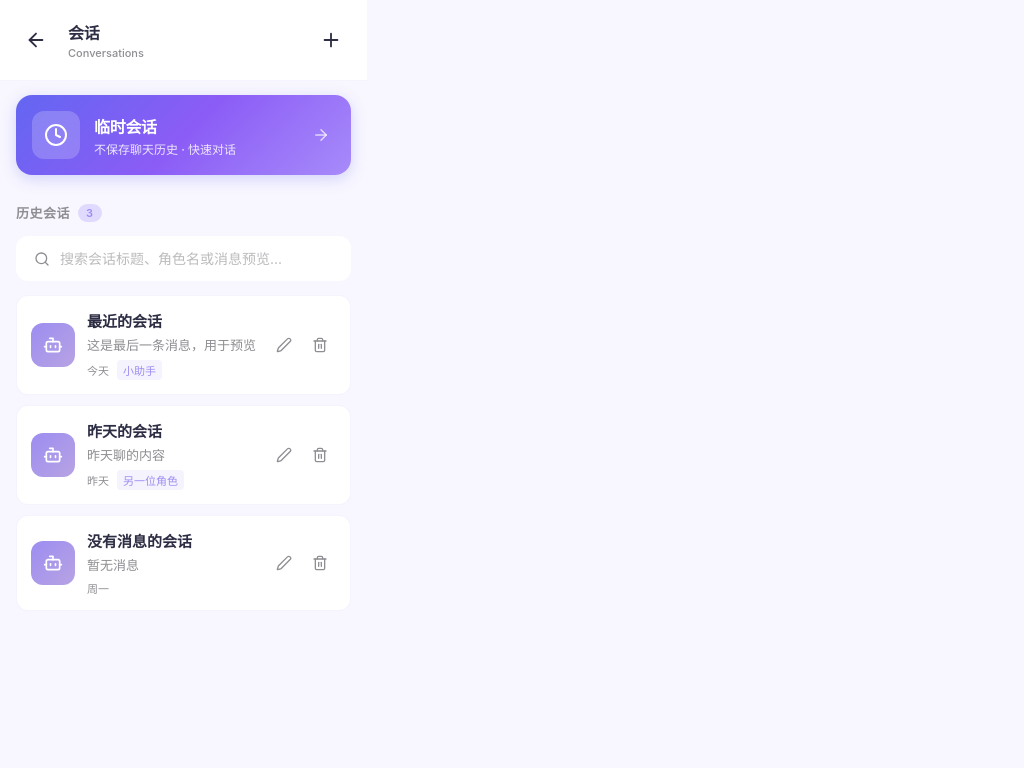
it: ConversationListPage 重命名与删除 › 重命名：弹窗预填旧名称，确定后写入并提示
This screenshot has width=1024, height=768.
Expected: the element with class "conversation-item" showing "最近的会话 这是最后一条消息，用于预览 今天 小助手" is shown, top-left (16, 295), bottom-right (351, 395)
Click the 1st button with class "edit-btn". click: [284, 345]
box: top-left (268, 329), bottom-right (300, 361)
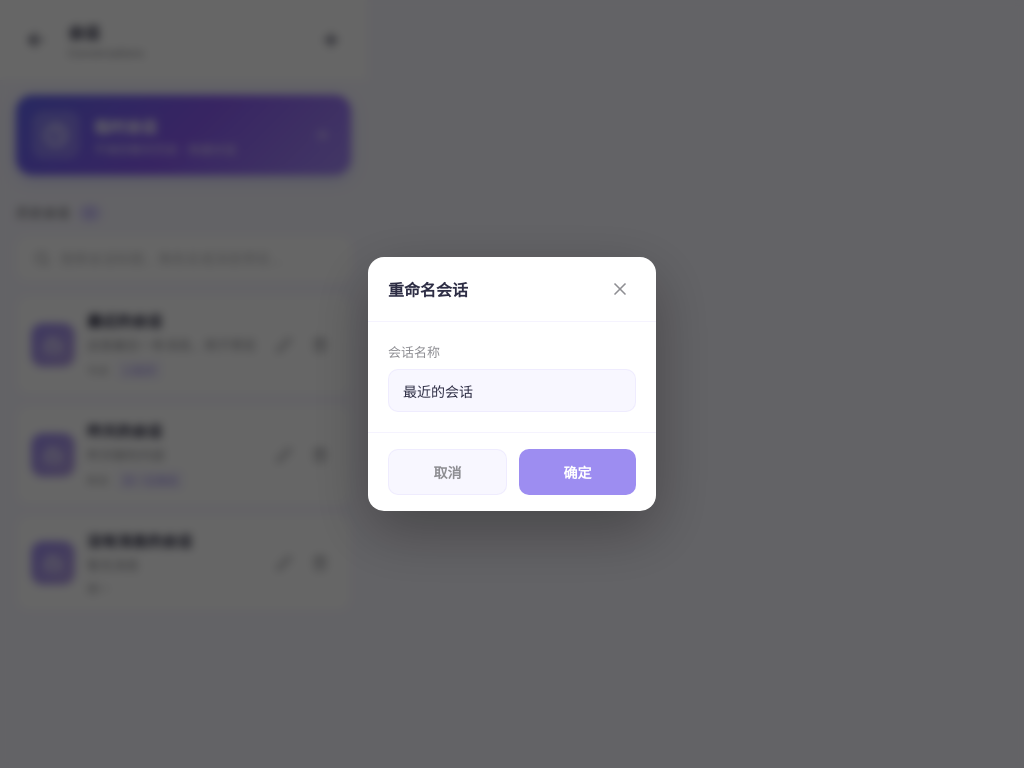
Result: the field with class "form-input" holds "最近的会话"
Replace the text in the field with class "form-input" with "改名后的会话". click: [512, 390]
box: top-left (388, 369), bottom-right (636, 412)
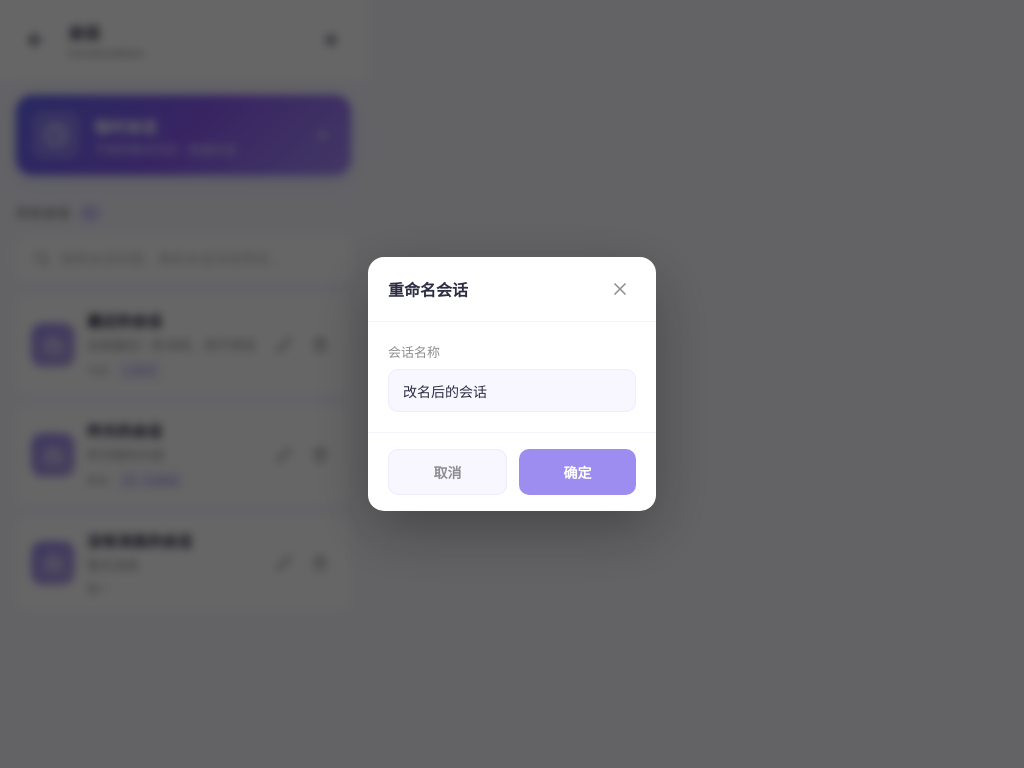
Click the button with class "modal-btn" showing "确定". click: [578, 472]
box: top-left (519, 449), bottom-right (636, 495)
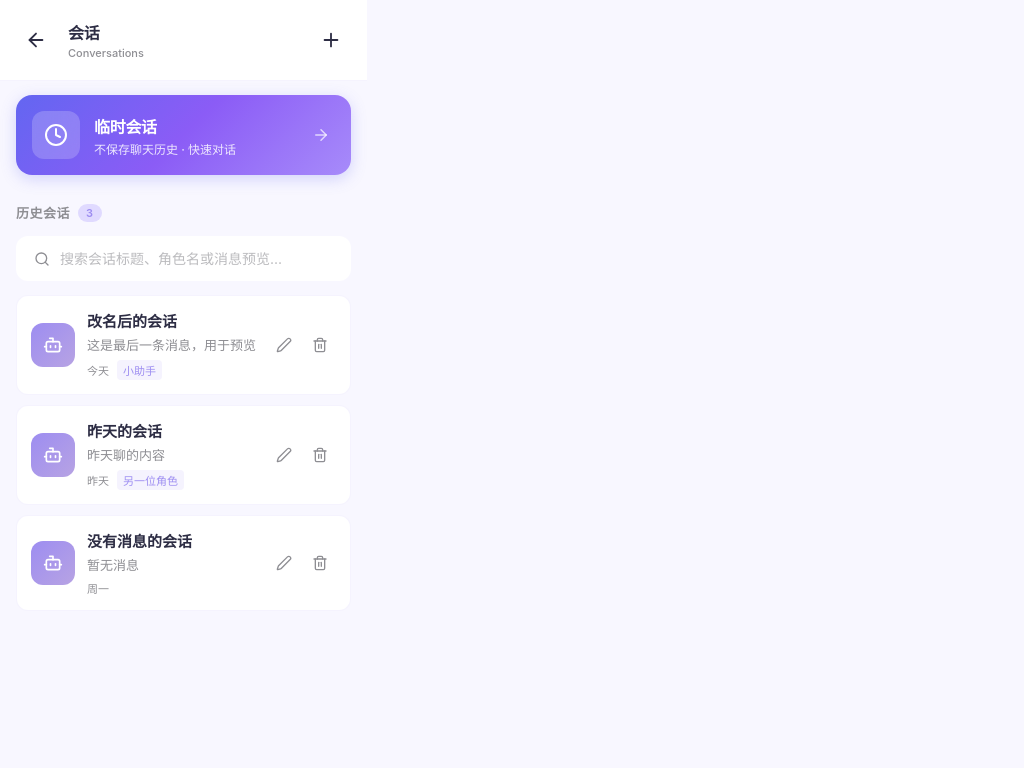
Result: the text "改名后的会话" is shown at top-left (87, 310), bottom-right (177, 331)
